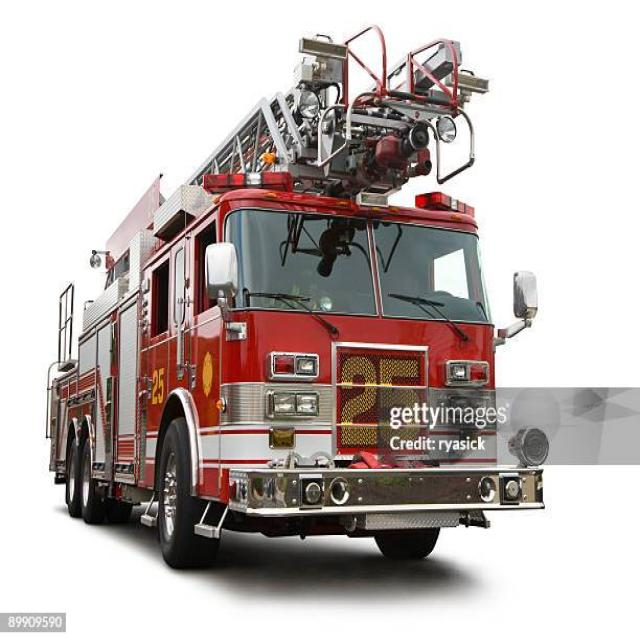Firetruck: (32, 20, 569, 580)
